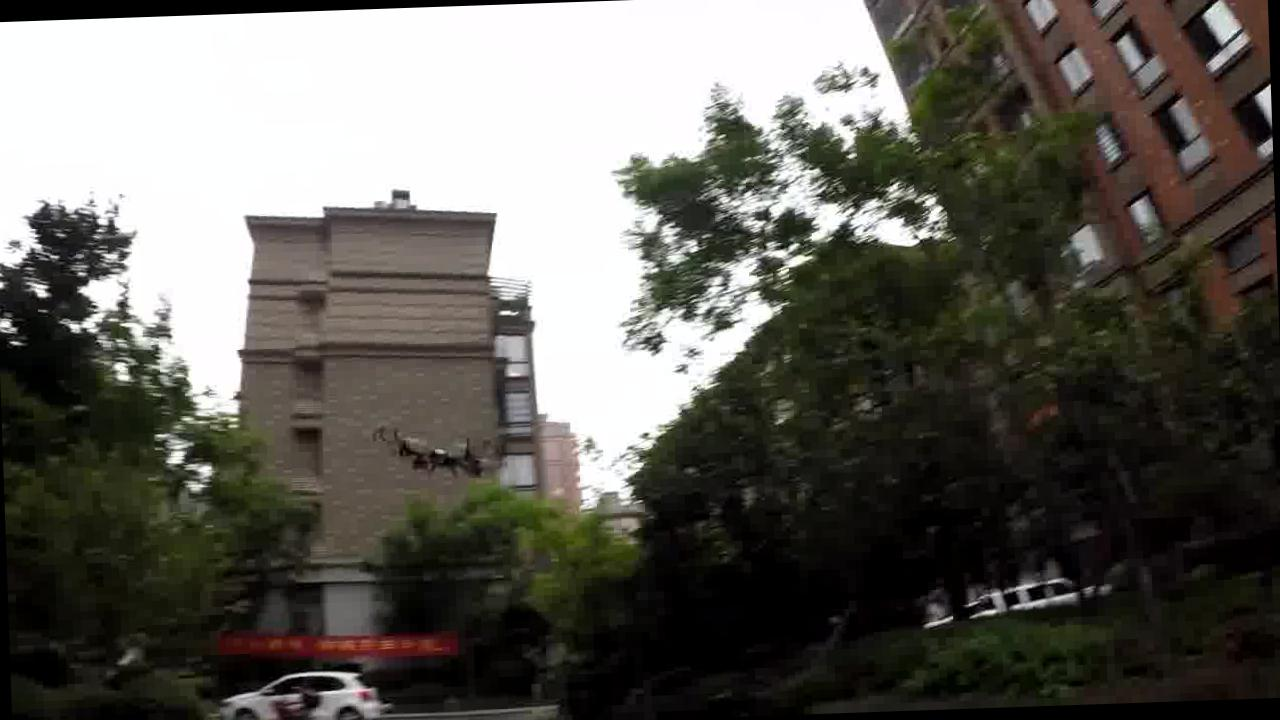drone: (368, 419, 498, 486)
